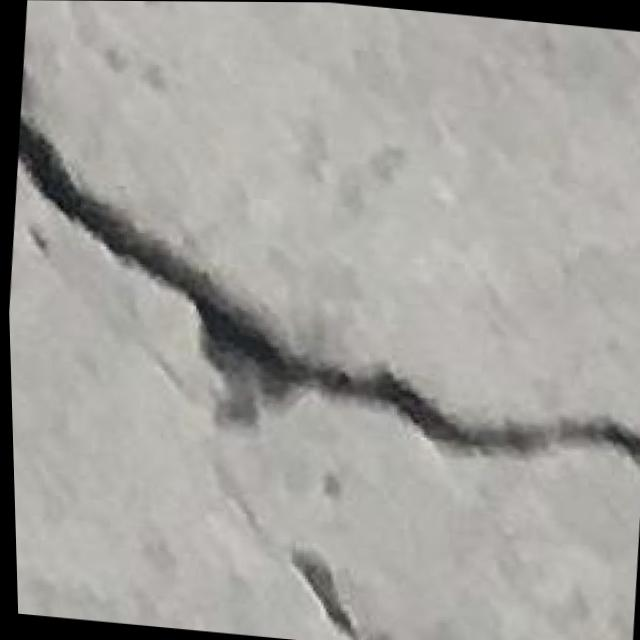Crack: (2, 85, 640, 513)
